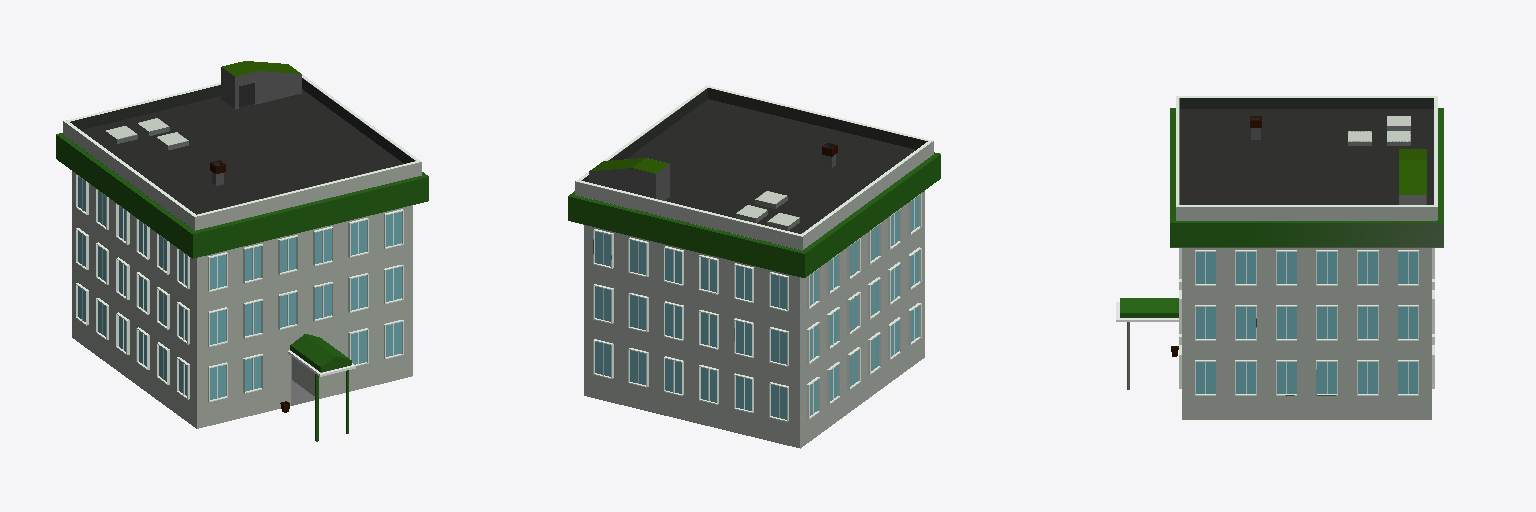
The picture shows the model from 3 angles: view 1: azimuth 30°, elevation 25°; view 2: azimuth 150°, elevation 25°; view 3: azimuth 270°, elevation 25°; orthographic projection.
Parts seen in each view (by area): view 1: Cube, Hostel_lvl1.001_Cube.013, Cube.014_Cube.010, Cube.001_Cube.002; view 2: Cube, Hostel_lvl1.001_Cube.013, Cube.014_Cube.010; view 3: Cube, Hostel_lvl1.001_Cube.013, Cube.014_Cube.010, Cube.001_Cube.002.
Boxes of the visible parts, <box> form: Cube: <box>56,74,428,428</box>; Hostel_lvl1.001_Cube.013: <box>76,174,403,401</box>; Cube.014_Cube.010: <box>105,61,301,185</box>; Cube.001_Cube.002: <box>288,334,355,441</box>; Cube: <box>568,85,940,448</box>; Hostel_lvl1.001_Cube.013: <box>593,193,921,421</box>; Cube.014_Cube.010: <box>589,143,837,230</box>; Cube: <box>1170,96,1443,419</box>; Hostel_lvl1.001_Cube.013: <box>1179,248,1434,395</box>; Cube.014_Cube.010: <box>1250,116,1426,204</box>; Cube.001_Cube.002: <box>1116,298,1178,389</box>.
Size of the model in its own units: 13.21 by 13.45 by 15.79.
1 materials, 1 textured.